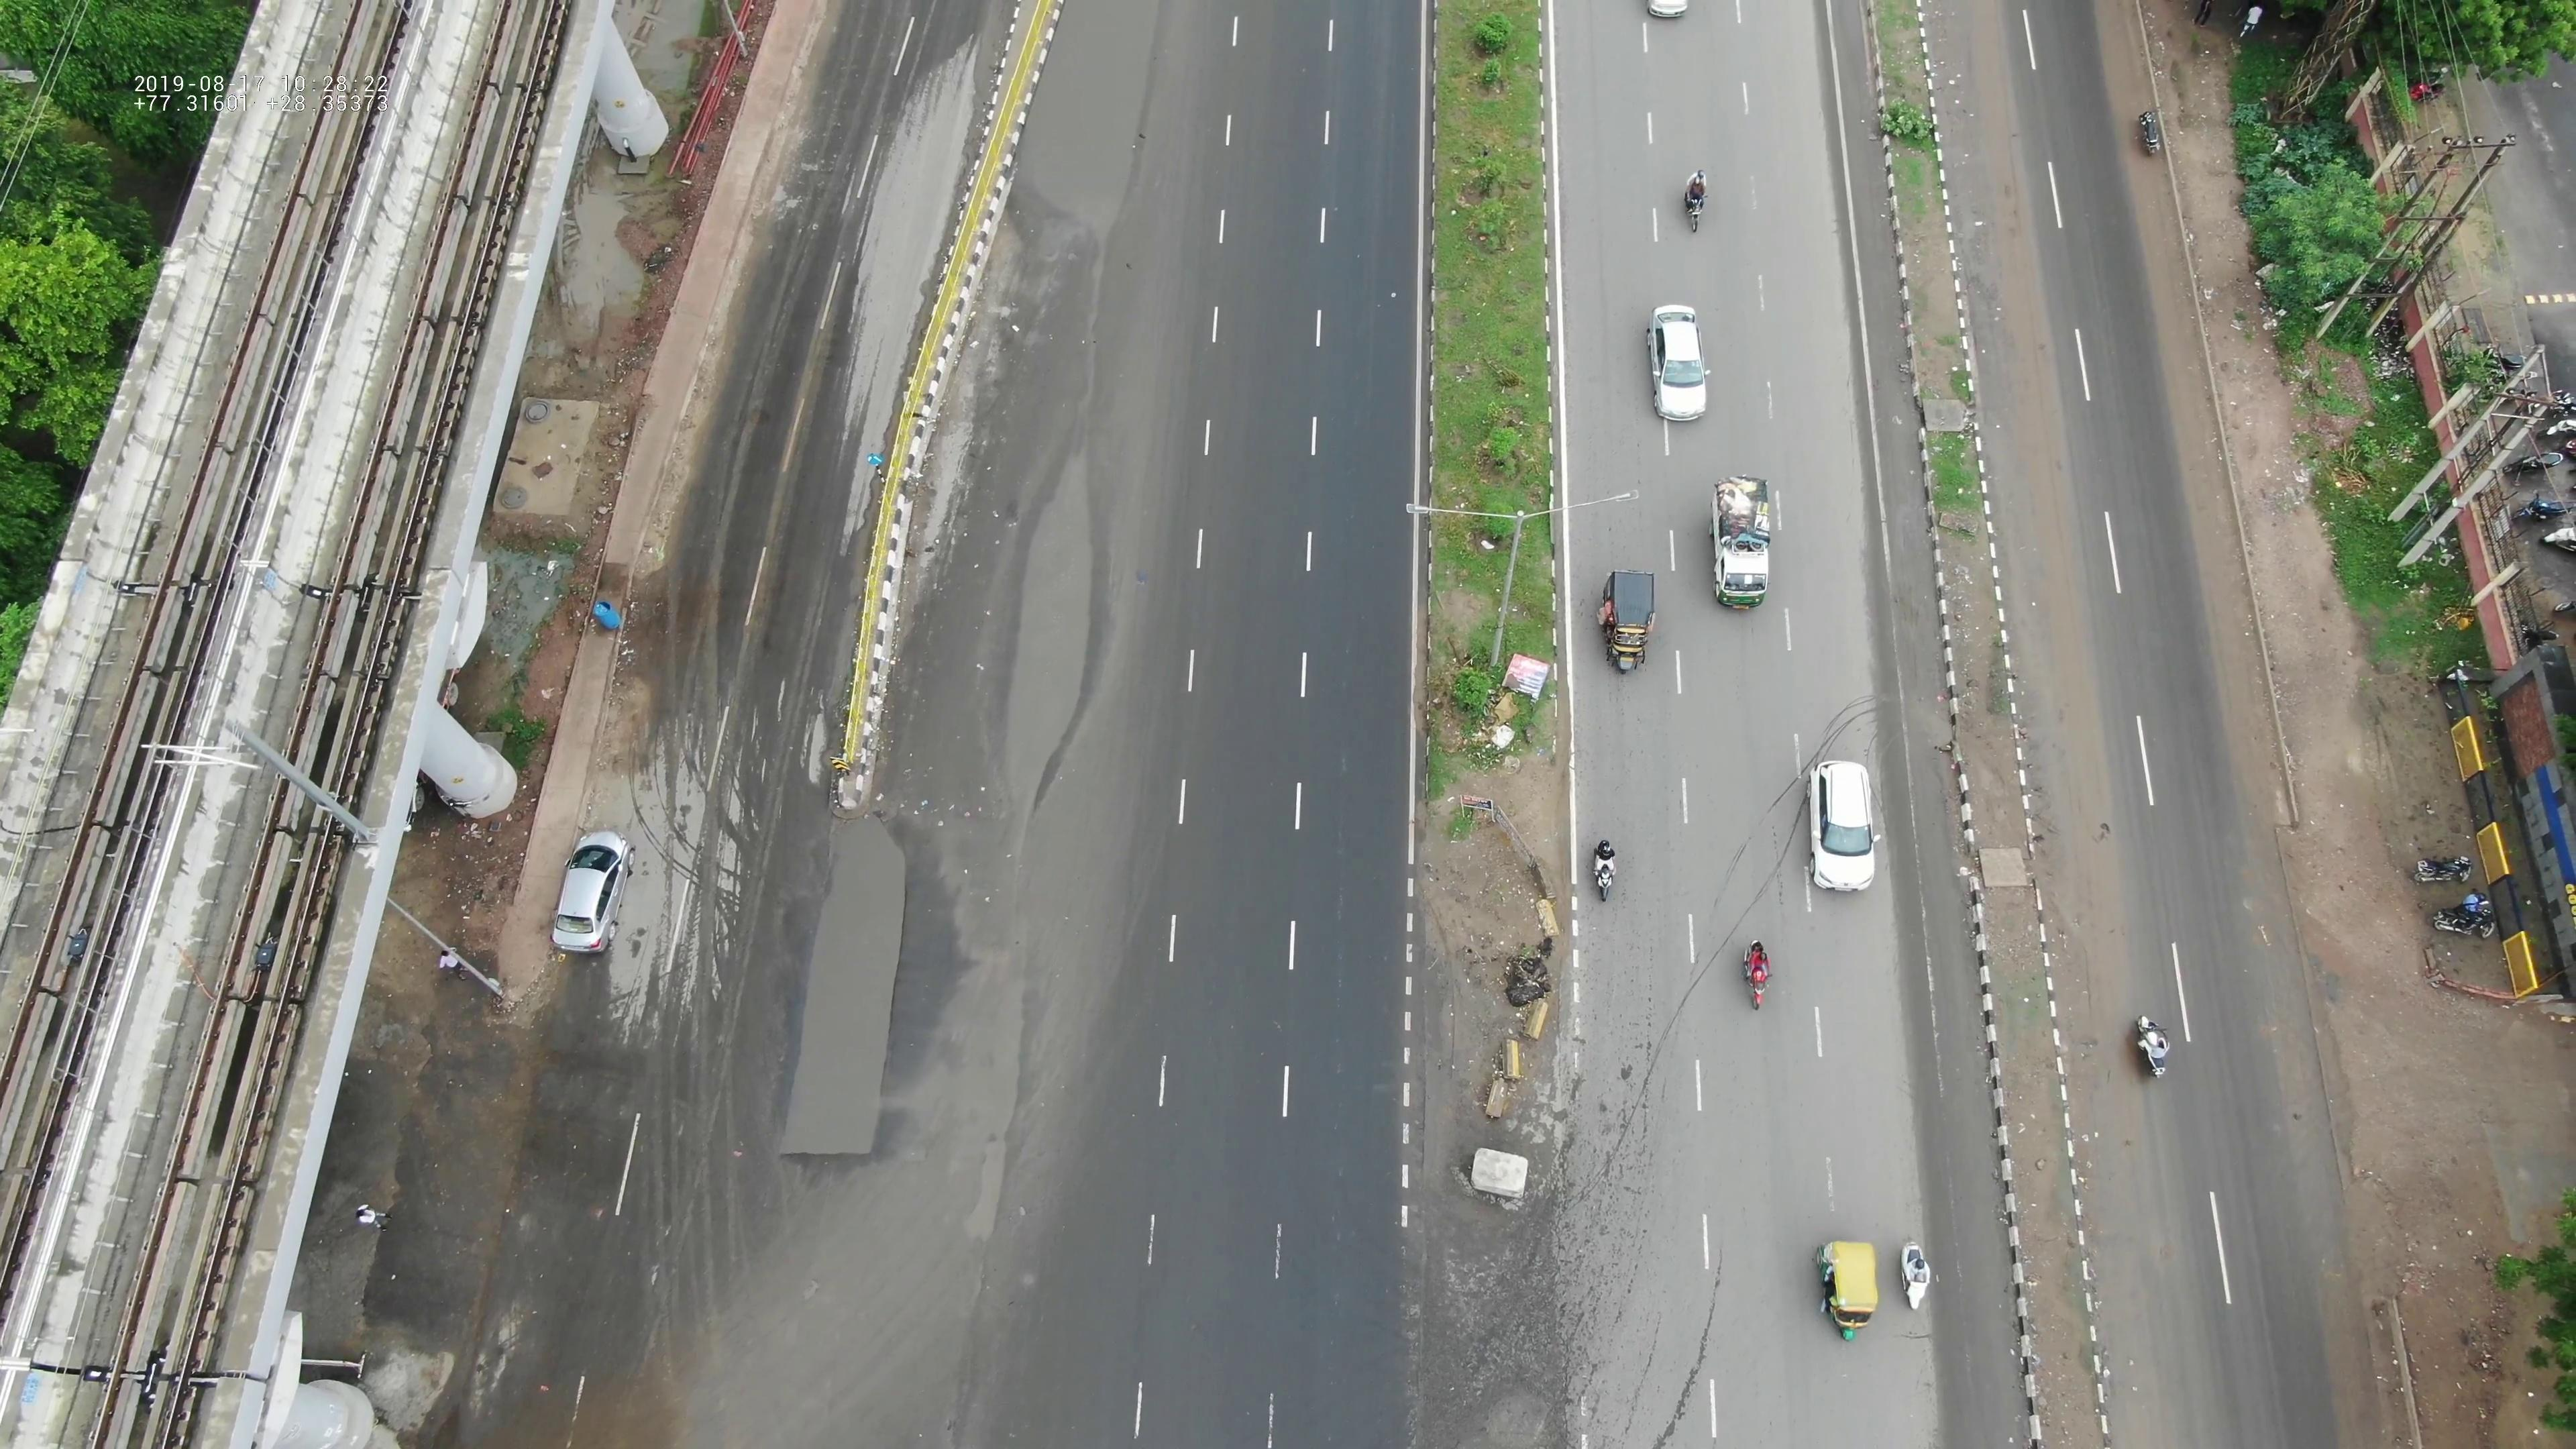Muddy_road: (1937, 126, 2075, 419), (2038, 766, 2143, 1111), (1994, 433, 2112, 734), (2075, 1150, 2187, 1391)
Potholes: (980, 412, 1150, 833), (757, 770, 924, 1182)
Waterlogging: (991, 0, 1185, 225)
